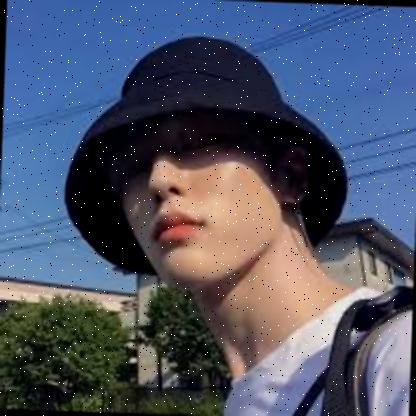person: (86, 30, 324, 292)
